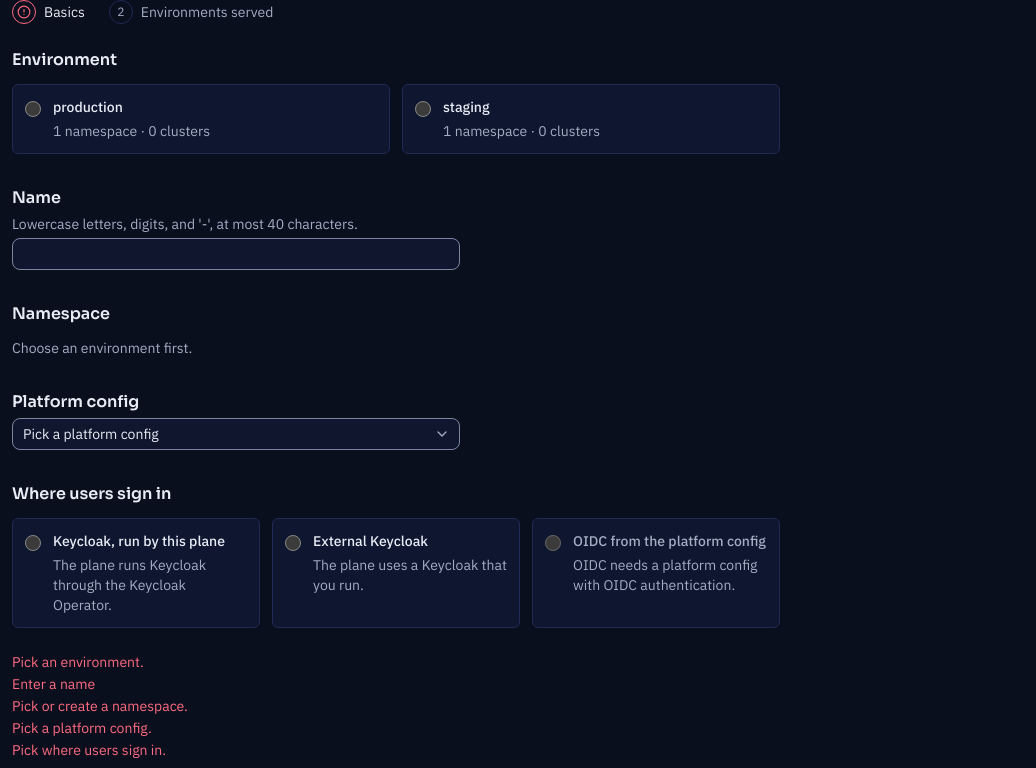
Scenario: PlaneCreateFlow › blocks the step when OIDC was picked and the platform config switches to basic
Click the radio button labelled "production 1 namespace · 0 clusters" at [33, 109], box [25, 101, 41, 117]
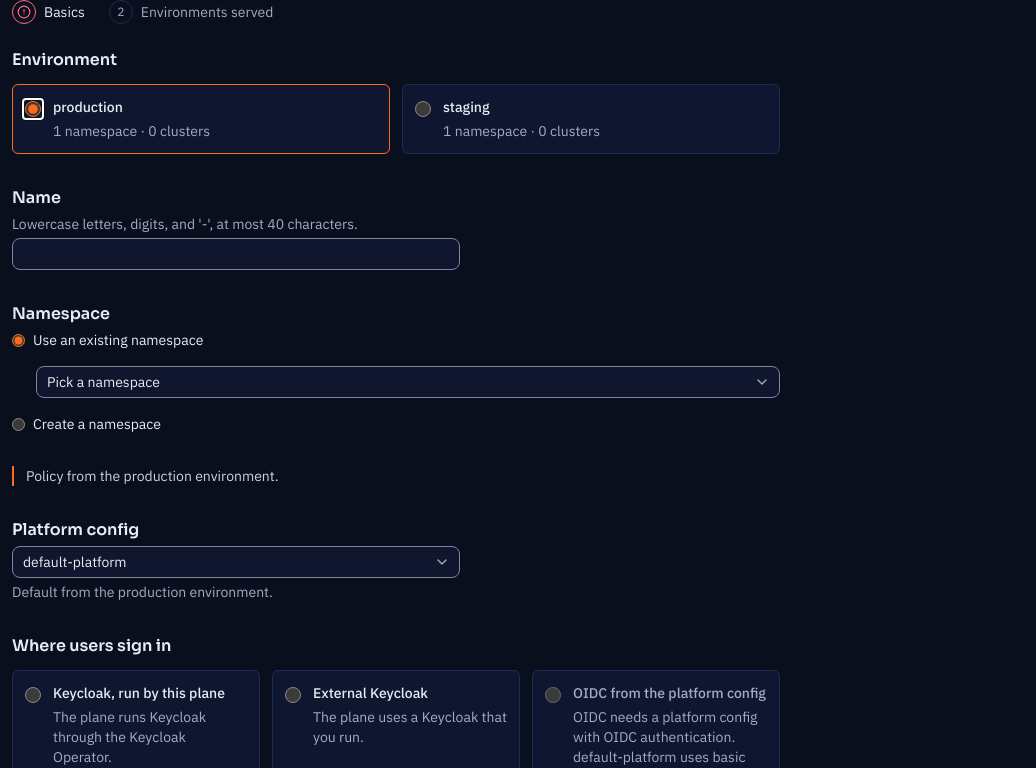
Type "plane-a" into the field labelled "Name" at [236, 254], box [12, 238, 460, 270]
Select "platform" in the dropdown named "Namespace" at [408, 382], box [36, 366, 780, 398]
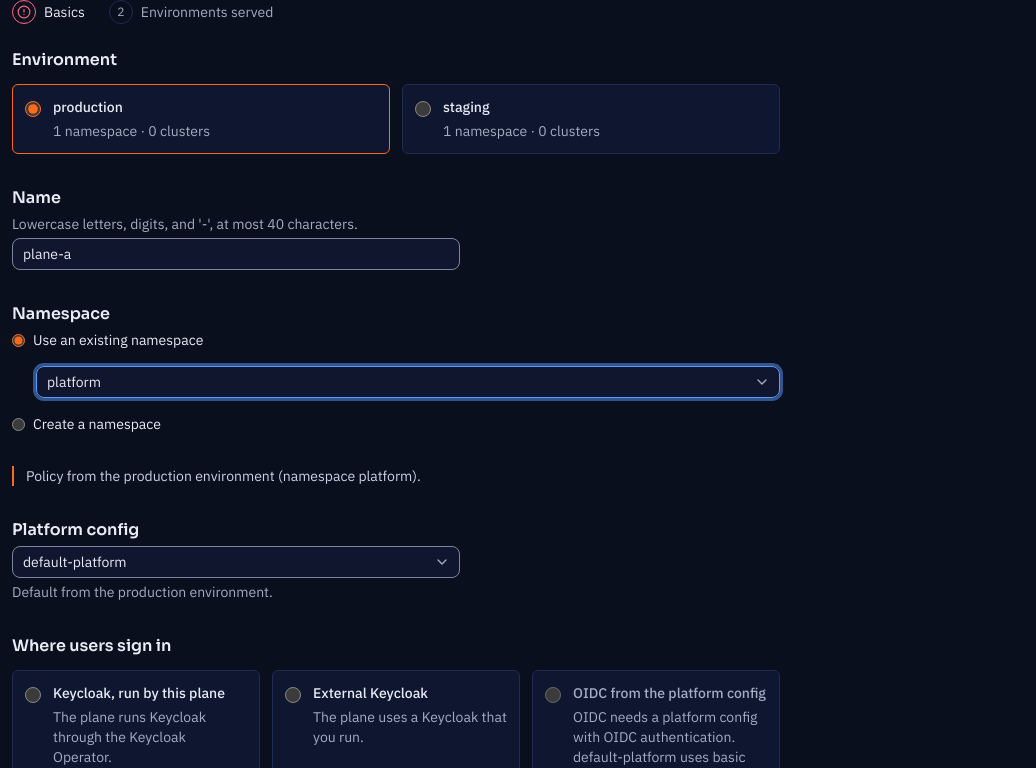
Click the radio button labelled "Keycloak, run by this plane" at [33, 695], box [25, 687, 41, 703]
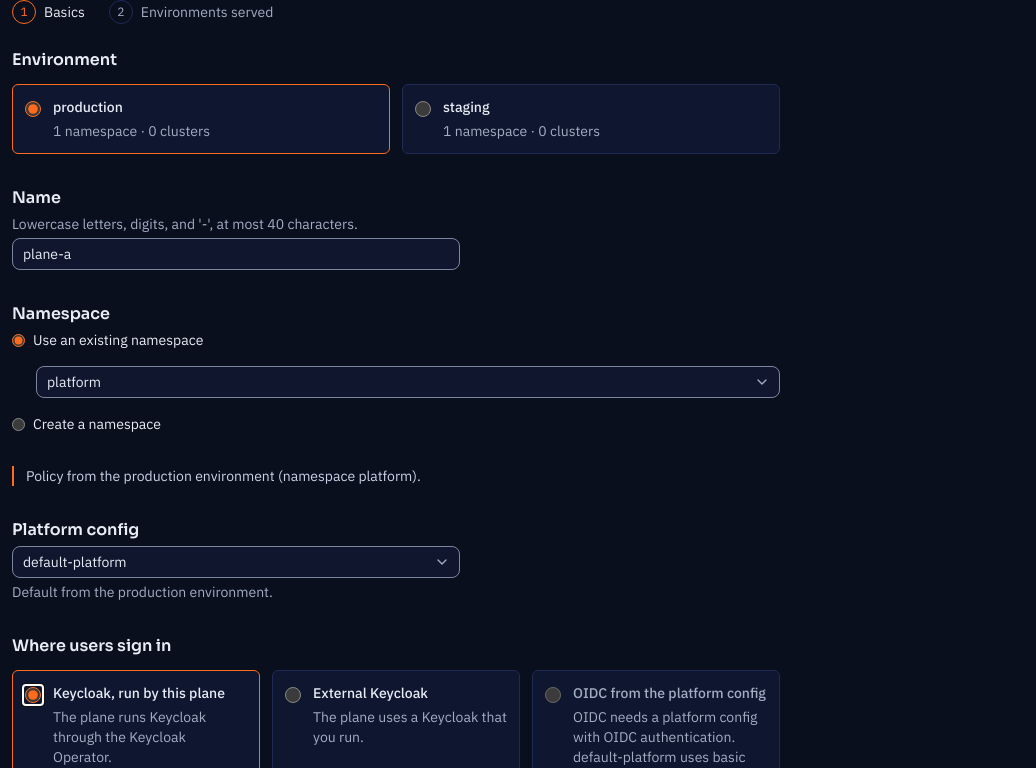
Select "oidc-platform" in the dropdown labelled "Platform config" at [236, 562], box [12, 546, 460, 578]
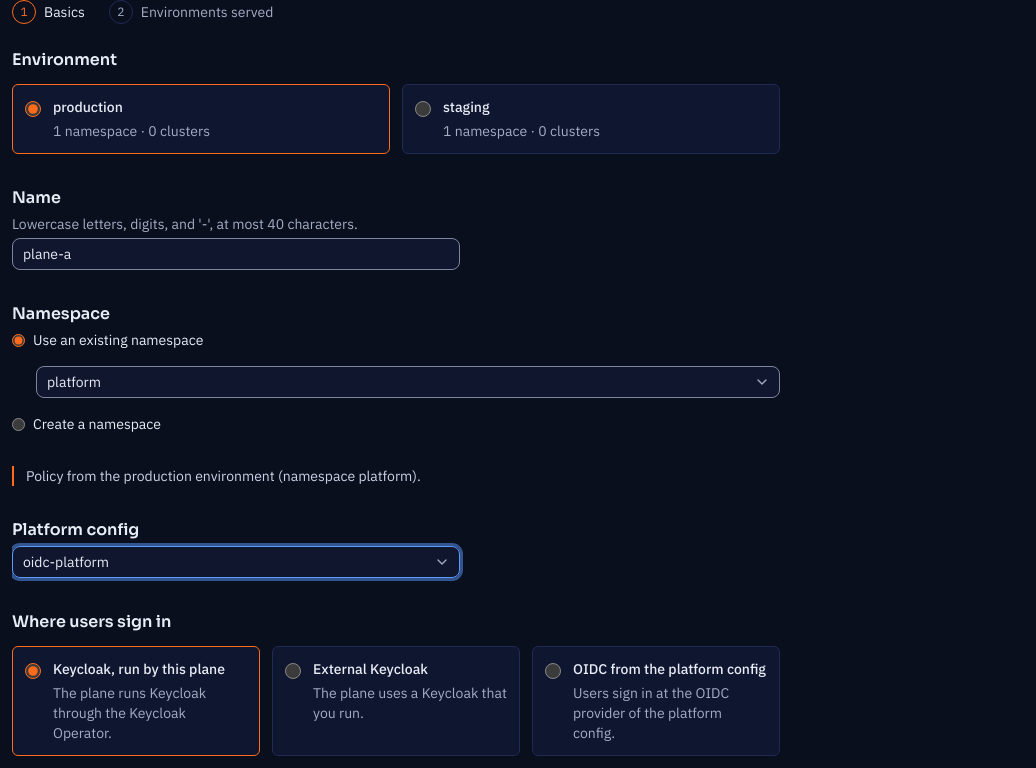
Click the radio button labelled "OIDC from the platform config" at [553, 671], box [545, 663, 561, 679]
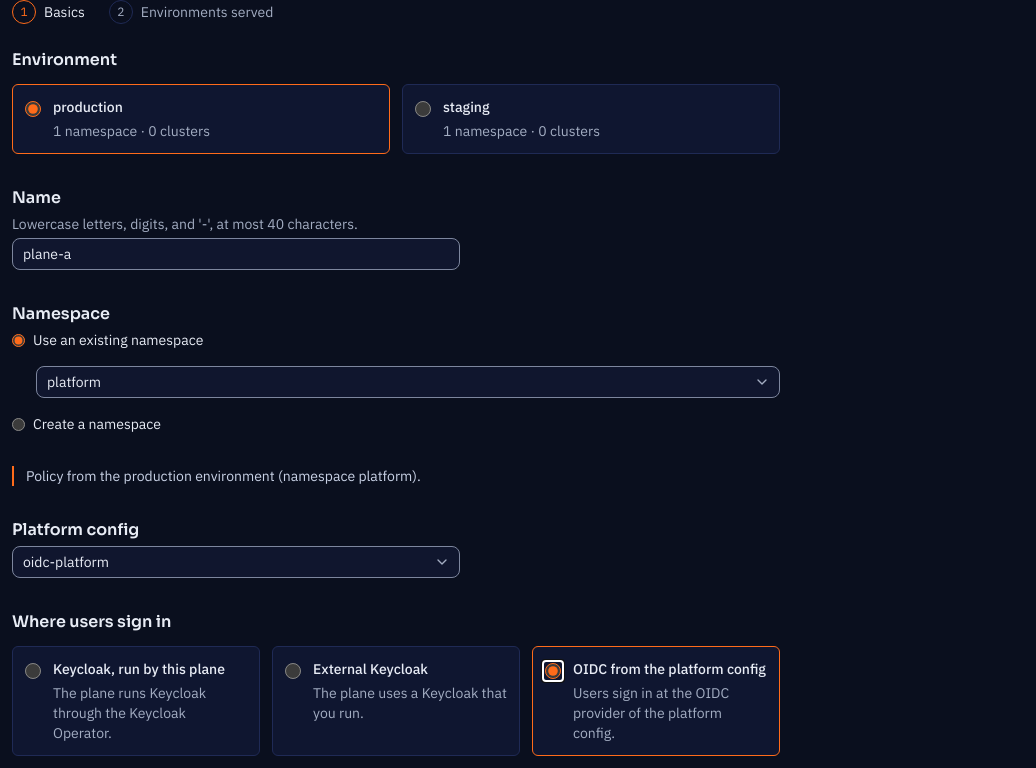
Select "default-platform" in the dropdown labelled "Platform config" at [236, 562], box [12, 546, 460, 578]
(page scrolled)
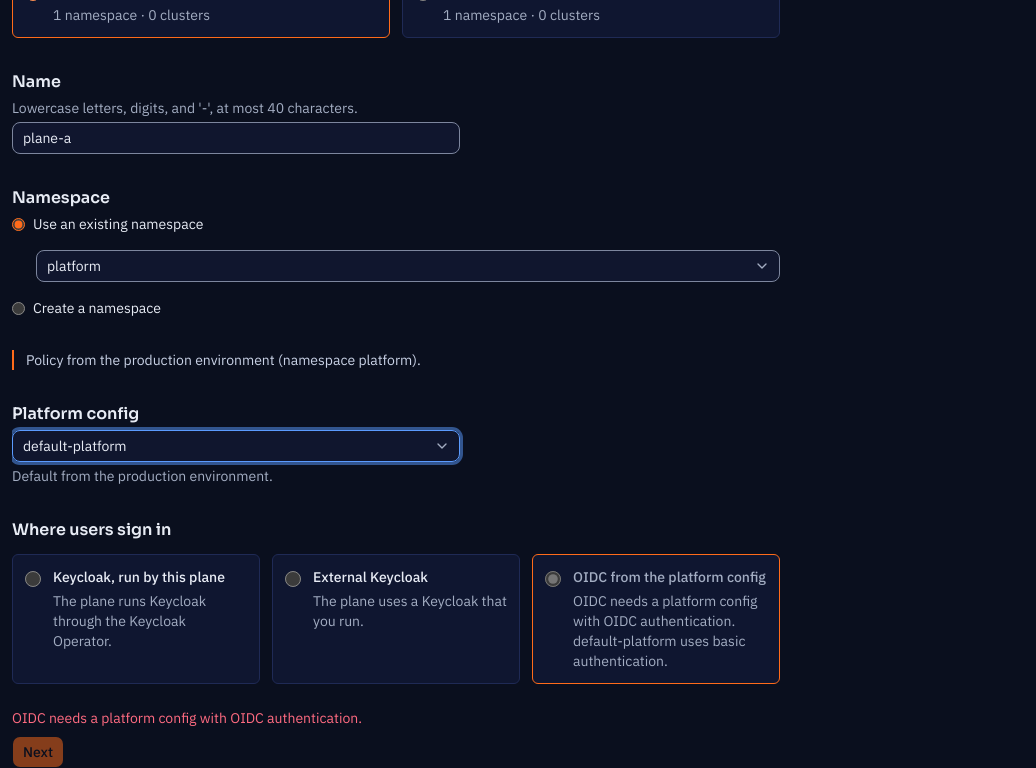
expect the list item "OIDC needs a platform config with OIDC authentication." is shown: met, box [12, 709, 362, 727]
expect the button "Next" is disabled: met, box [12, 736, 64, 767]
